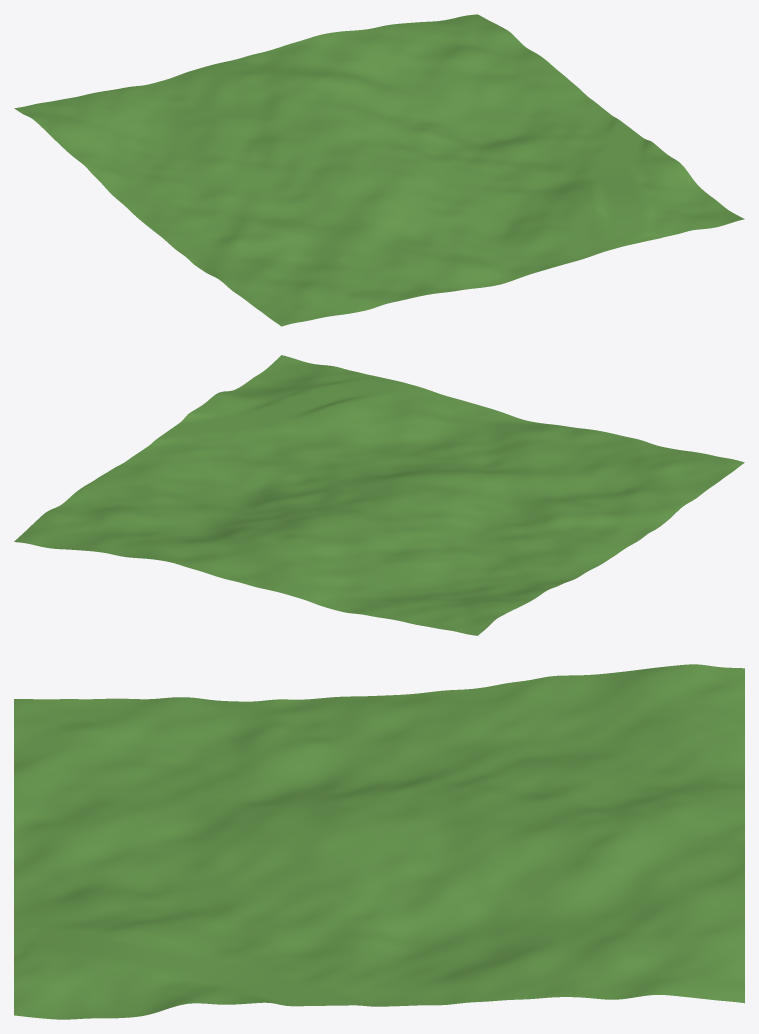
File: SM_Terrain_03_05.fbx
The picture shows the model from 3 angles, top to bottom: view 1: azimuth 30°, elevation 25°; view 2: azimuth 150°, elevation 25°; view 3: azimuth 270°, elevation 25°; orthographic projection. The views are drawn at different scales.
Visible parts, largest first — view 1: SM_Terrain_03_05; view 2: SM_Terrain_03_05; view 3: SM_Terrain_03_05.
Boxes of the visible parts, bbox=[...] form: SM_Terrain_03_05: bbox=[14, 14, 744, 326]; SM_Terrain_03_05: bbox=[14, 355, 744, 635]; SM_Terrain_03_05: bbox=[14, 664, 744, 1019].
Bounding box in the file's own units: 384 × 28.99 × 384.
